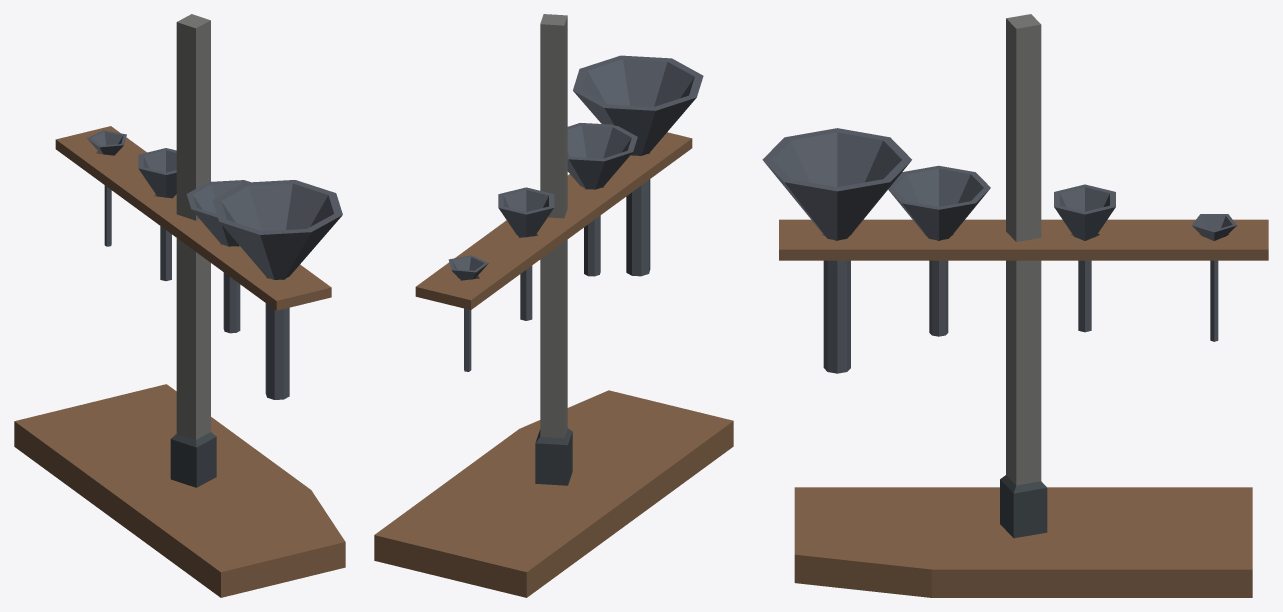
The model's file is SM_Rack_For_Chemical_Funnels.gltf.
3 renders of one model, left to right at view 1: azimuth 30°, elevation 25°; view 2: azimuth 150°, elevation 25°; view 3: azimuth 270°, elevation 25°, orthographic. The views are drawn at different scales.
Parts seen in each view (by area): view 1: SM_Rack_For_Chemical_Funnels, SM_Chemical_Funnel_01, SM_Chemical_Funnel_02, SM_Chemical_Funnel_03, SM_Chemical_Funnel_04; view 2: SM_Rack_For_Chemical_Funnels, SM_Chemical_Funnel_01, SM_Chemical_Funnel_02, SM_Chemical_Funnel_03, SM_Chemical_Funnel_04; view 3: SM_Rack_For_Chemical_Funnels, SM_Chemical_Funnel_01, SM_Chemical_Funnel_02, SM_Chemical_Funnel_03, SM_Chemical_Funnel_04.
Boxes of the visible parts, x1,y1,x2,y2 form: SM_Rack_For_Chemical_Funnels: [14, 14, 345, 597]; SM_Chemical_Funnel_01: [212, 180, 342, 399]; SM_Chemical_Funnel_02: [186, 180, 250, 333]; SM_Chemical_Funnel_03: [138, 148, 176, 281]; SM_Chemical_Funnel_04: [87, 130, 126, 246]; SM_Rack_For_Chemical_Funnels: [374, 14, 733, 597]; SM_Chemical_Funnel_01: [573, 55, 703, 276]; SM_Chemical_Funnel_02: [567, 123, 637, 276]; SM_Chemical_Funnel_03: [498, 187, 554, 320]; SM_Chemical_Funnel_04: [448, 255, 488, 371]; SM_Rack_For_Chemical_Funnels: [779, 14, 1268, 597]; SM_Chemical_Funnel_01: [762, 128, 911, 373]; SM_Chemical_Funnel_02: [888, 165, 990, 336]; SM_Chemical_Funnel_03: [1054, 184, 1115, 332]; SM_Chemical_Funnel_04: [1191, 214, 1236, 341].
Bounding box in the file's own units: 0.1544 × 0.468 × 0.401.
1 material, 1 textured.
